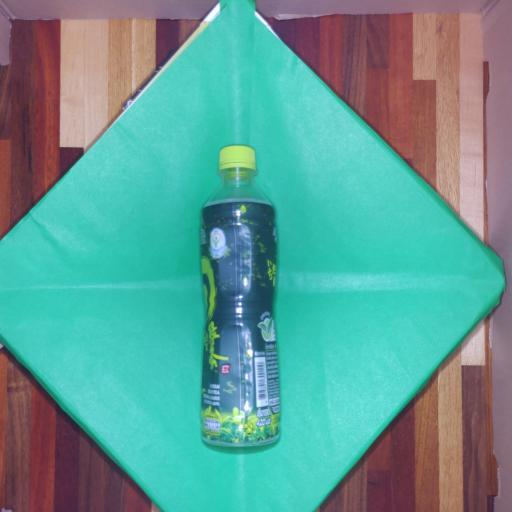bottle: (168, 118, 299, 481)
